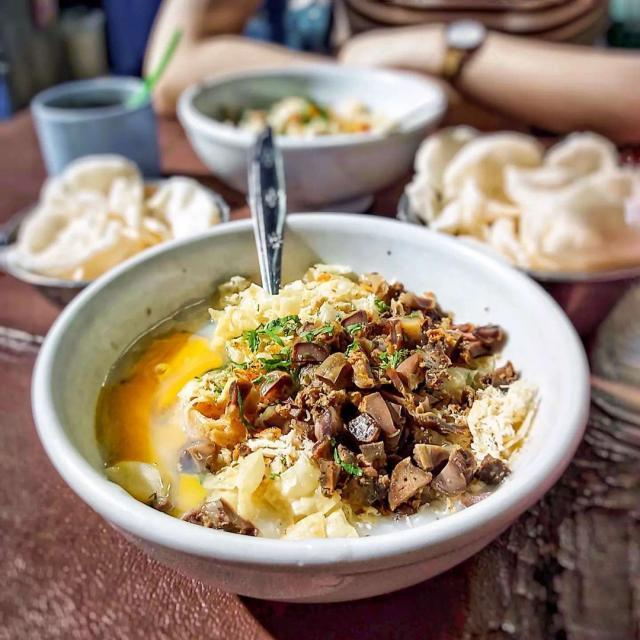bubur ayam: (100, 262, 540, 542)
mangkuk: (29, 212, 590, 606), (176, 64, 450, 214), (400, 124, 640, 282)
